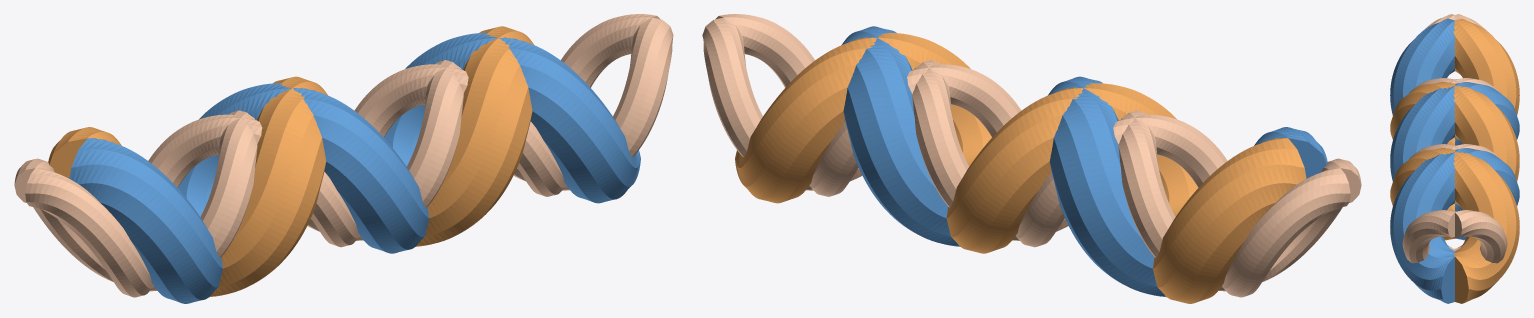
The model's file is twisted-pair.glb.
The picture shows the model from 3 angles, left to right: view 1: azimuth 30°, elevation 25°; view 2: azimuth 150°, elevation 25°; view 3: azimuth 270°, elevation 25°; orthographic projection. The views are drawn at different scales.
Visible parts, largest first — view 1: p2, p3, p0, p1; view 2: p3, p2, p1, p0; view 3: p3, p2, p1, p0.
Boxes of the visible parts, x1,y1,x2,y2 form: p2: [69, 33, 640, 303]; p3: [48, 26, 534, 297]; p0: [25, 14, 660, 297]; p1: [14, 17, 673, 291]; p3: [735, 33, 1306, 303]; p2: [841, 26, 1327, 297]; p1: [715, 14, 1350, 297]; p0: [702, 17, 1361, 291]; p3: [1390, 18, 1519, 303]; p2: [1390, 18, 1519, 303]; p1: [1402, 14, 1485, 263]; p0: [1425, 14, 1507, 263].
Size of the model in its own units: 0.3143 by 0.083 by 0.083.
